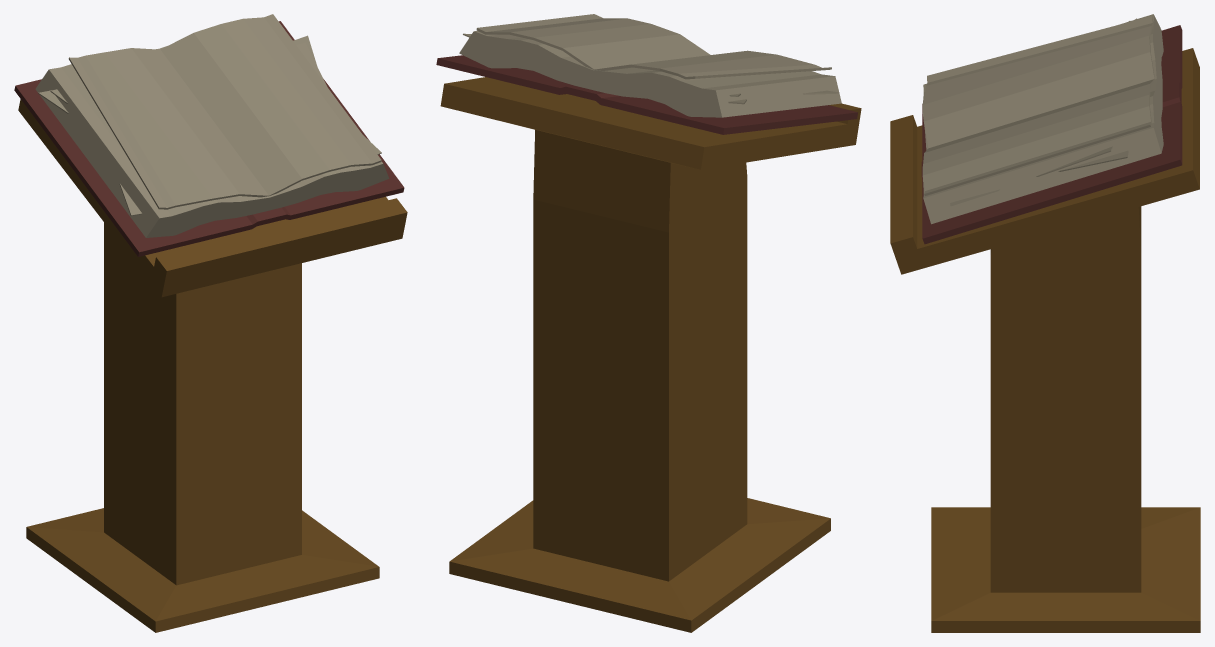
The model's file is Display.glb.
3 views of the same model, side by side, from view 1: azimuth 30°, elevation 25°; view 2: azimuth 150°, elevation 25°; view 3: azimuth 270°, elevation 25° (orthographic). The views are drawn at different scales.
Visible parts, largest first — view 1: Book1_Open; view 2: Book1_Open; view 3: Book1_Open.
Part boxes in pixels (x1=…): Book1_Open: x1=14, y1=14, x2=407, y2=632; Book1_Open: x1=436, y1=14, x2=861, y2=632; Book1_Open: x1=890, y1=14, x2=1200, y2=632.
Size of the model in its own units: 11.02 by 19.44 by 10.64.
